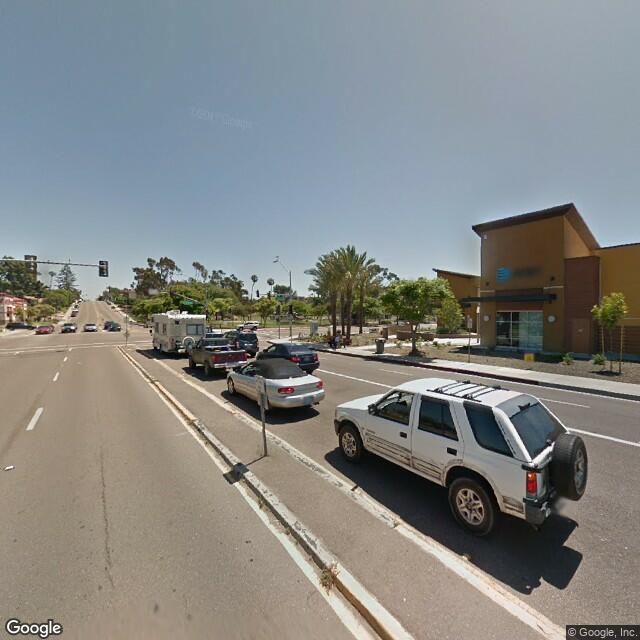litter: (458, 551, 474, 563), (1, 464, 15, 472), (271, 518, 282, 523)
